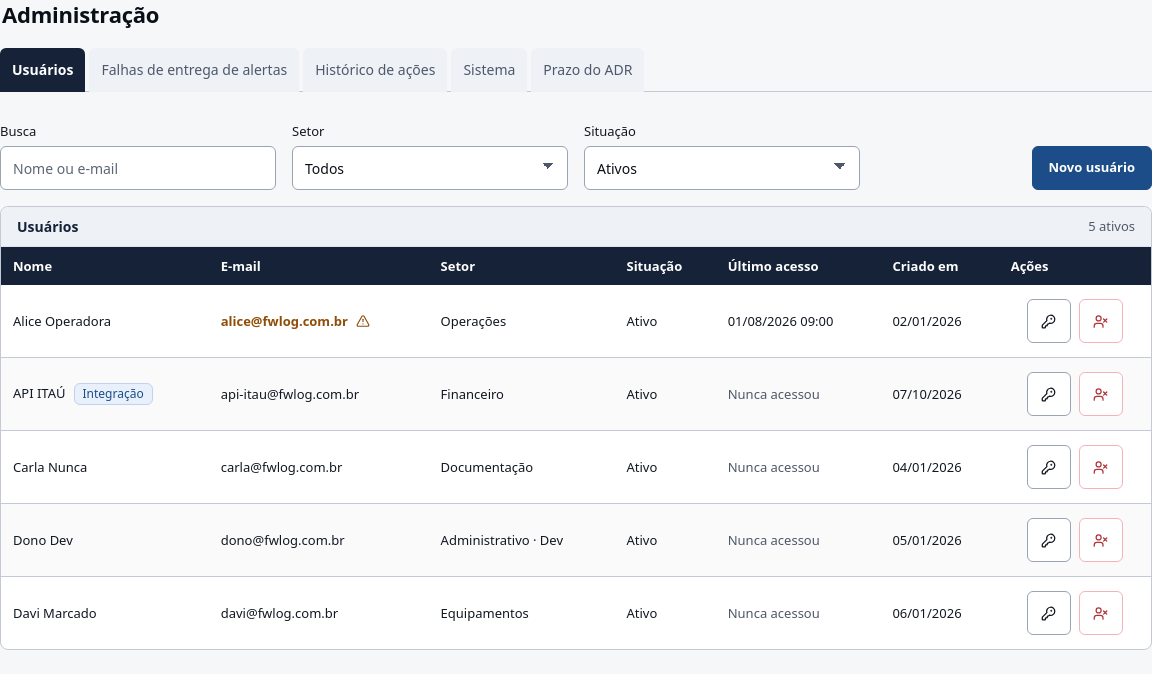
it: filtra por busca e por setor
In the search field named "Buscar por nome ou e-mail": [138, 168] box [0,146,276,190], type "carla@"
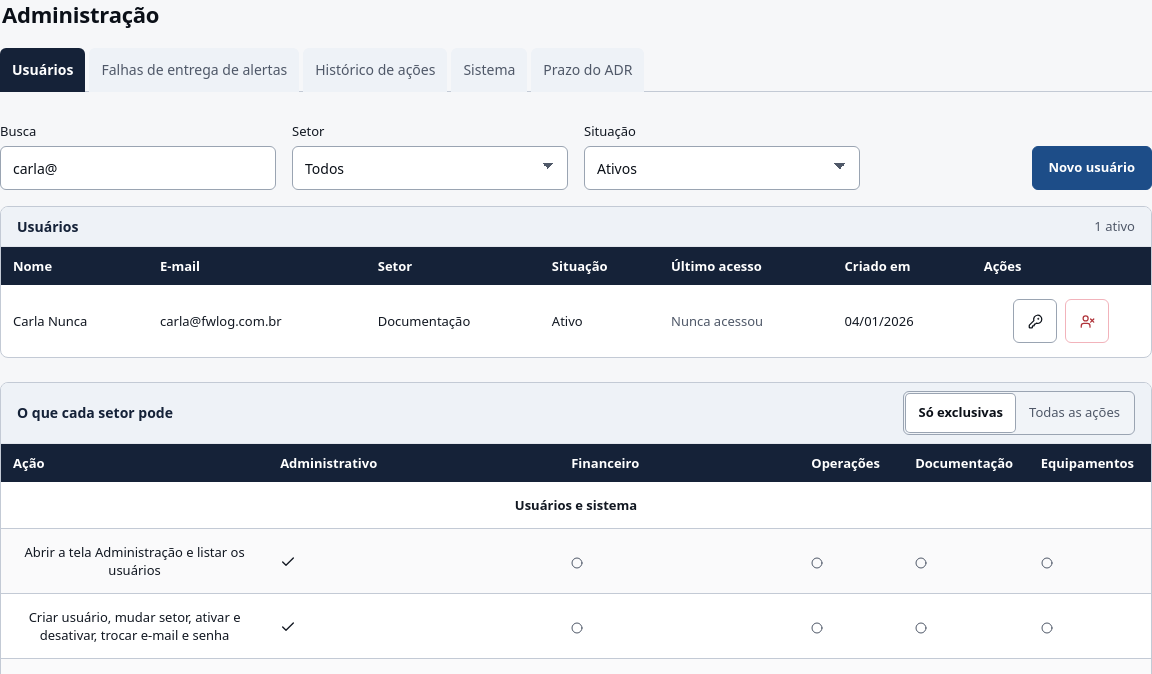
Expected: the text "Carla Nunca" is shown, [1,285,148,357]
Expected: the text "Alice Operadora" is gone
Clear the search field named "Buscar por nome ou e-mail": [138, 168] box [0,146,276,190]
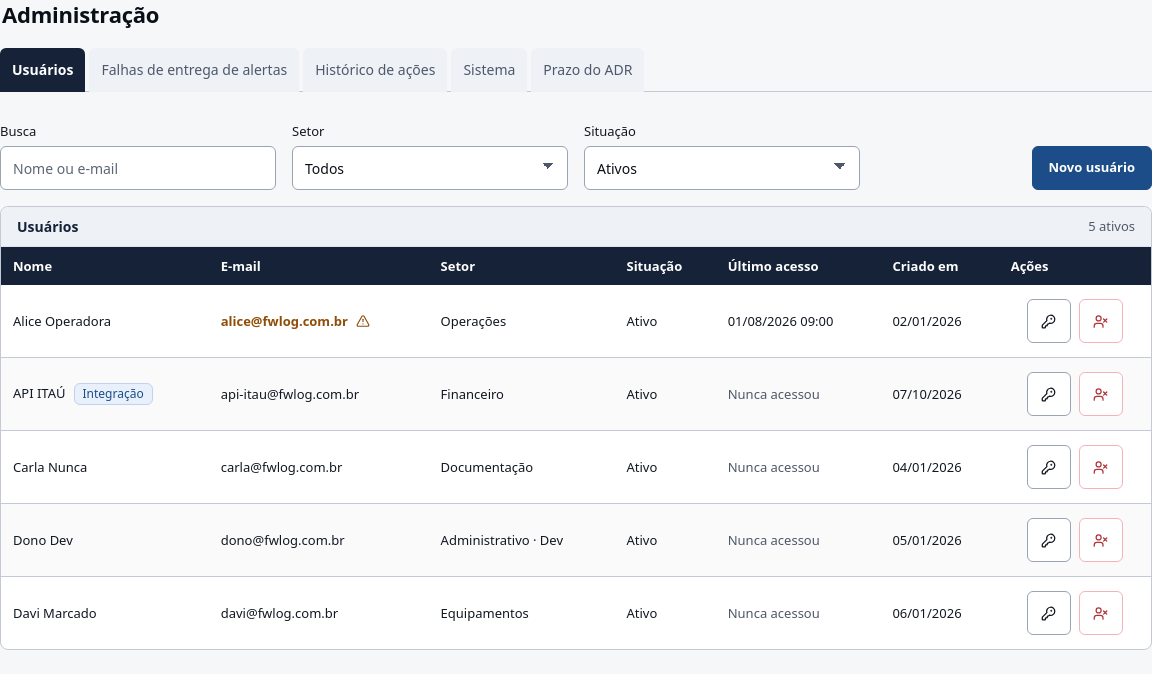
Select "Operações" in the dropdown labelled "Setor": [430, 168] box [292,146,568,190]
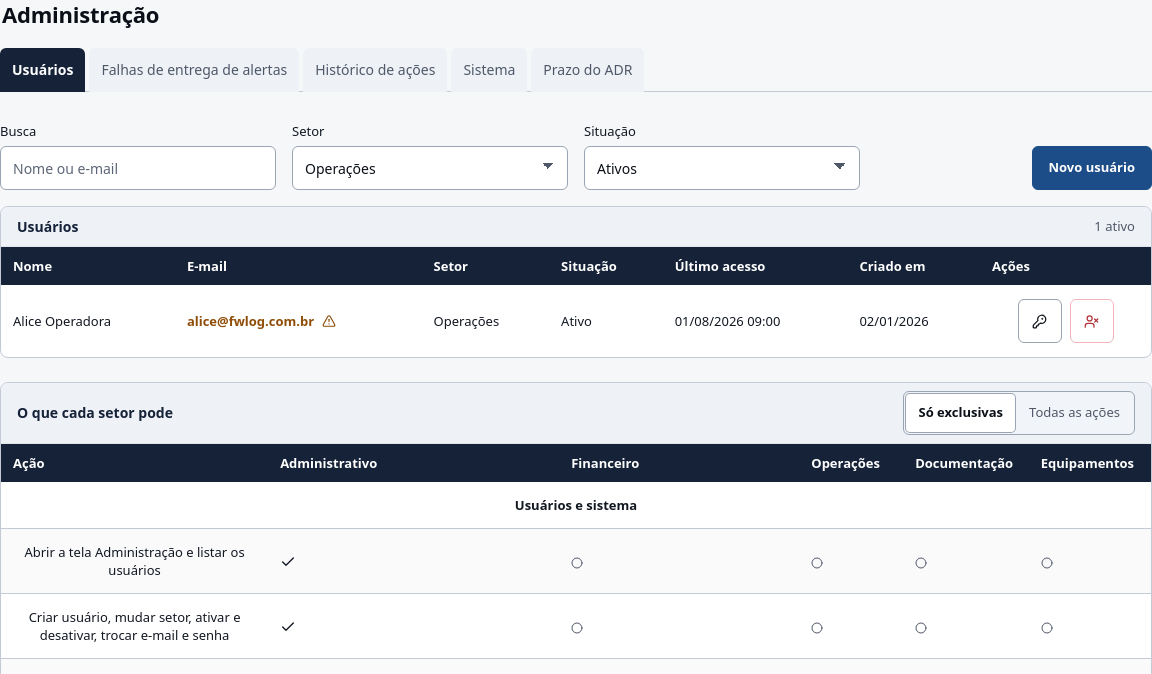
Expected: the text "Alice Operadora" is shown, [1,285,175,357]
Expected: the text "Carla Nunca" is gone
